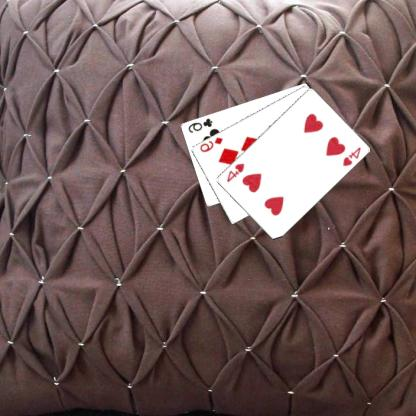4H: (225, 160, 247, 184), (342, 144, 364, 167)
6C: (187, 115, 215, 134)
9D: (198, 134, 226, 153)
